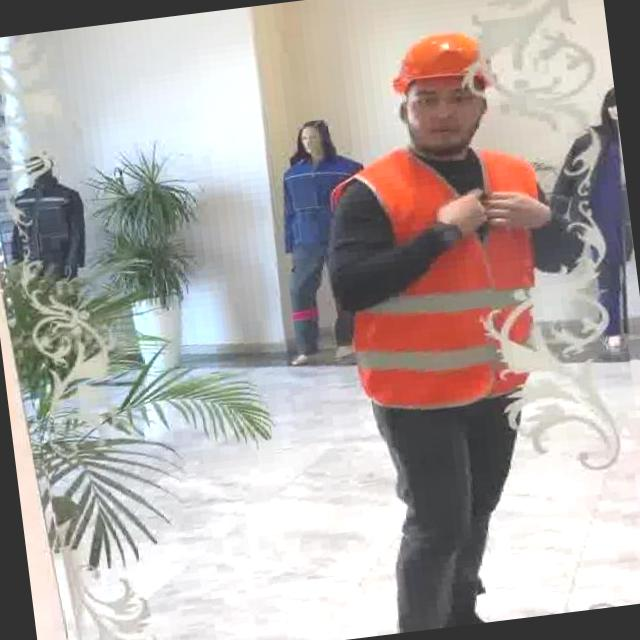vest: (323, 127, 566, 422)
